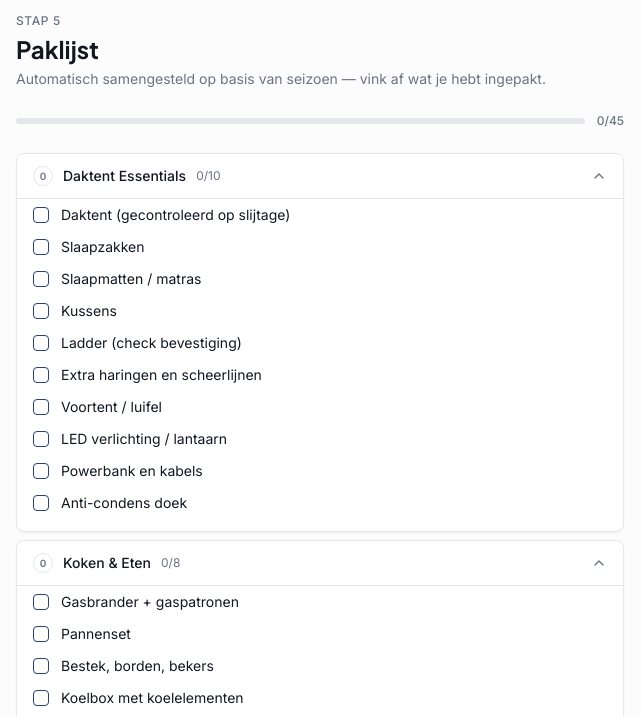
Test case: PackingChecklist › toggles checklist item
Click the text "Slaapzakken".
click(103, 247)  # box top-left (61, 237), bottom-right (144, 257)
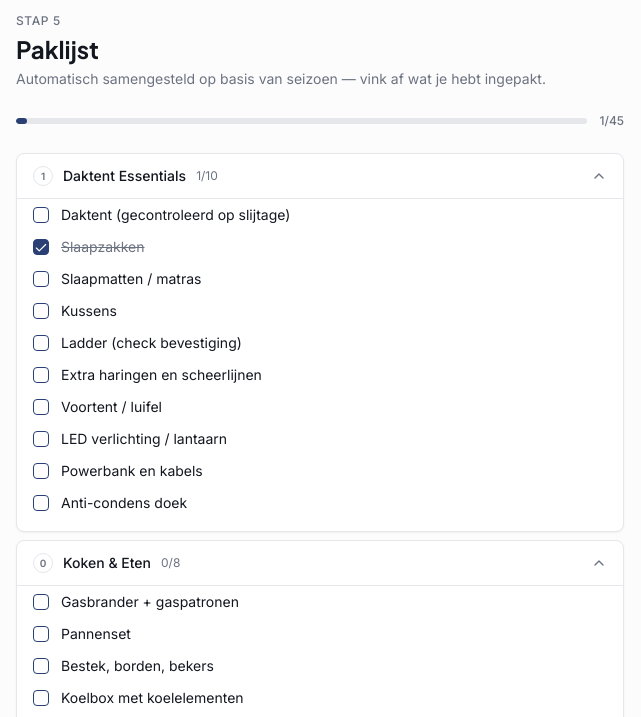
Expected: the text "Slaapzakken" has class "line-through", top-left (61, 237), bottom-right (144, 257)
